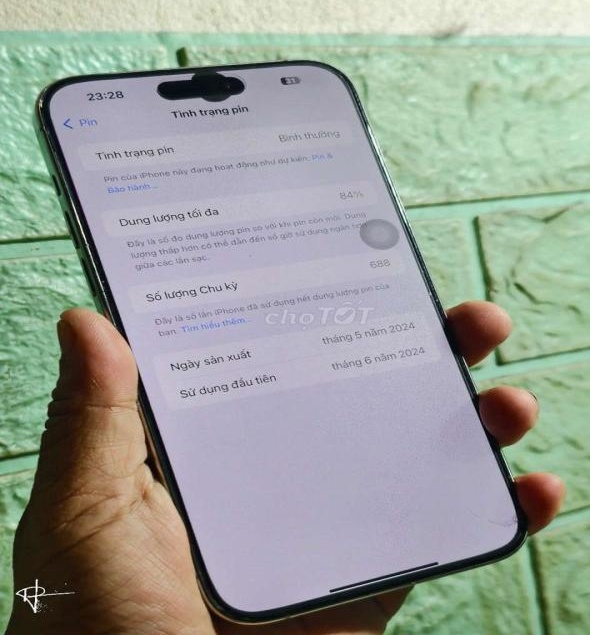screen_defect: (142, 59, 263, 109)
